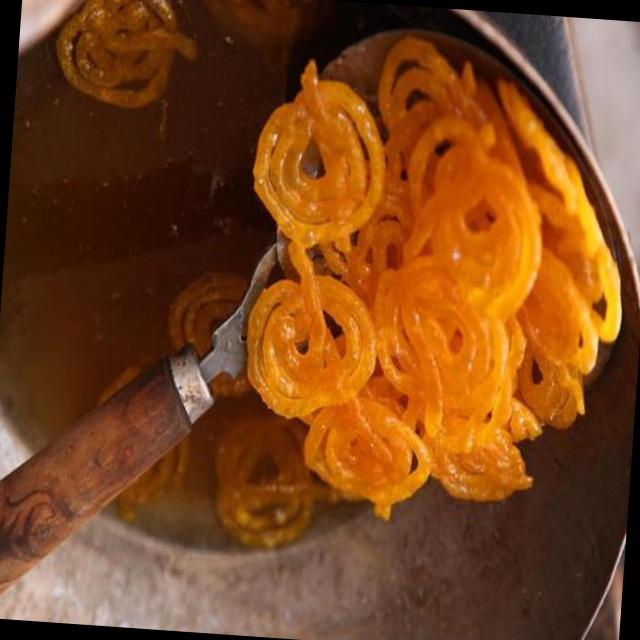jalebi: (226, 38, 640, 528), (55, 0, 188, 107)
